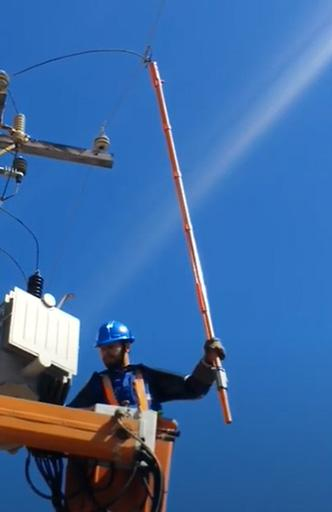Vara_Manobra: (147, 62, 232, 425)
